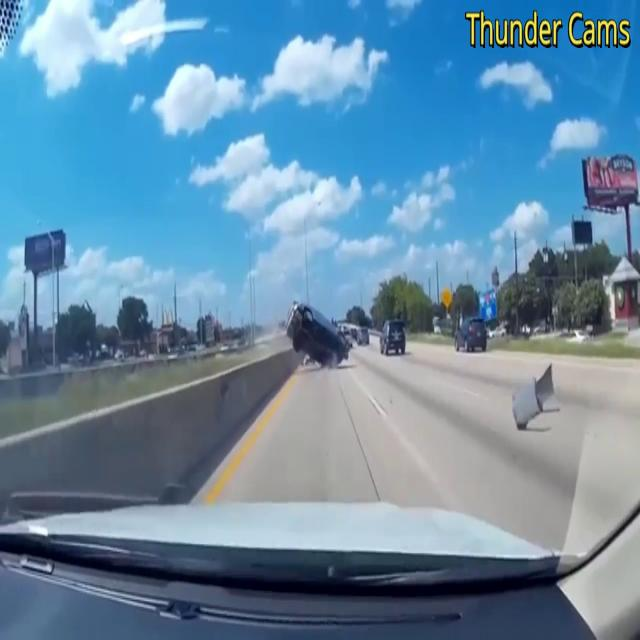accident: (280, 289, 352, 374)
